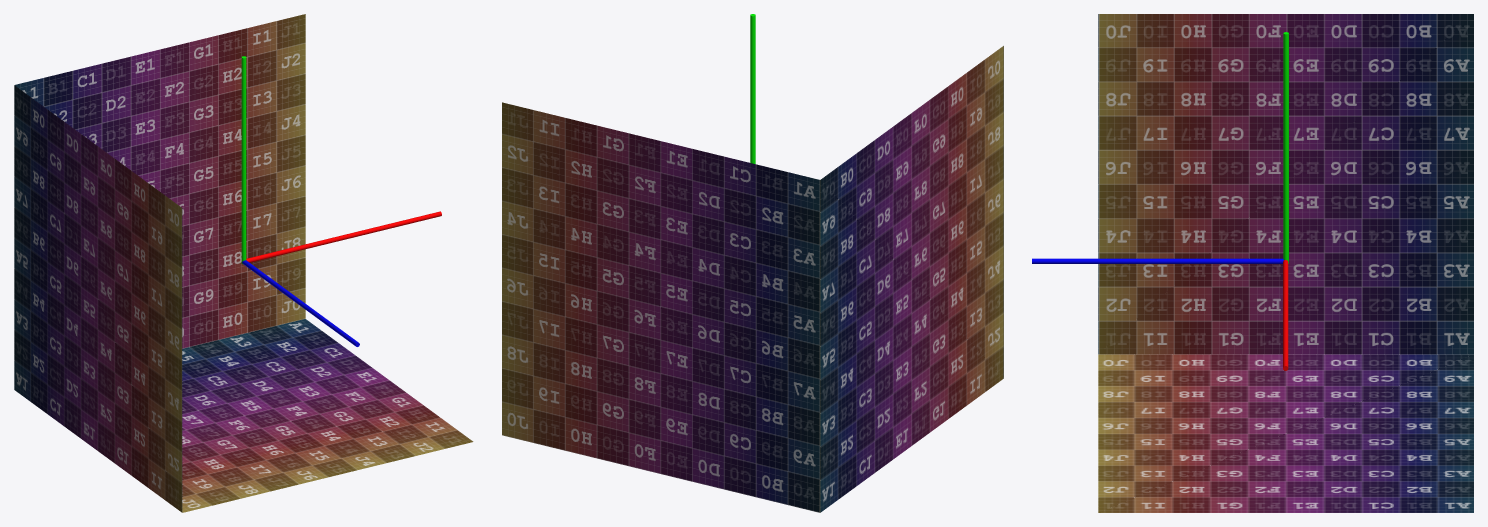
Rendered from axes.obj.
3 views of the same model, side by side, from view 1: azimuth 30°, elevation 25°; view 2: azimuth 150°, elevation 25°; view 3: azimuth 270°, elevation 25° (orthographic). The views are drawn at different scales.
Visible parts, largest first — view 1: pCube1, pCylinder3, pCylinder4, pCylinder2; view 2: pCube1, pCylinder3; view 3: pCube1, pCylinder2, pCylinder3, pCylinder4.
Boxes of the visible parts, x1=… form: pCube1: x1=14, y1=14, x2=473, y2=512; pCylinder3: x1=241, y1=56, x2=246, y2=264; pCylinder4: x1=246, y1=211, x2=441, y2=262; pCylinder2: x1=242, y1=260, x2=359, y2=346; pCube1: x1=502, y1=46, x2=1003, y2=512; pCylinder3: x1=750, y1=14, x2=755, y2=163; pCube1: x1=1098, y1=14, x2=1473, y2=512; pCylinder2: x1=1032, y1=258, x2=1283, y2=263; pCylinder3: x1=1283, y1=32, x2=1288, y2=263; pCylinder4: x1=1283, y1=260, x2=1288, y2=370.
Size of the model in its own units: 439 by 440 by 440.
4 materials, 1 textured.
